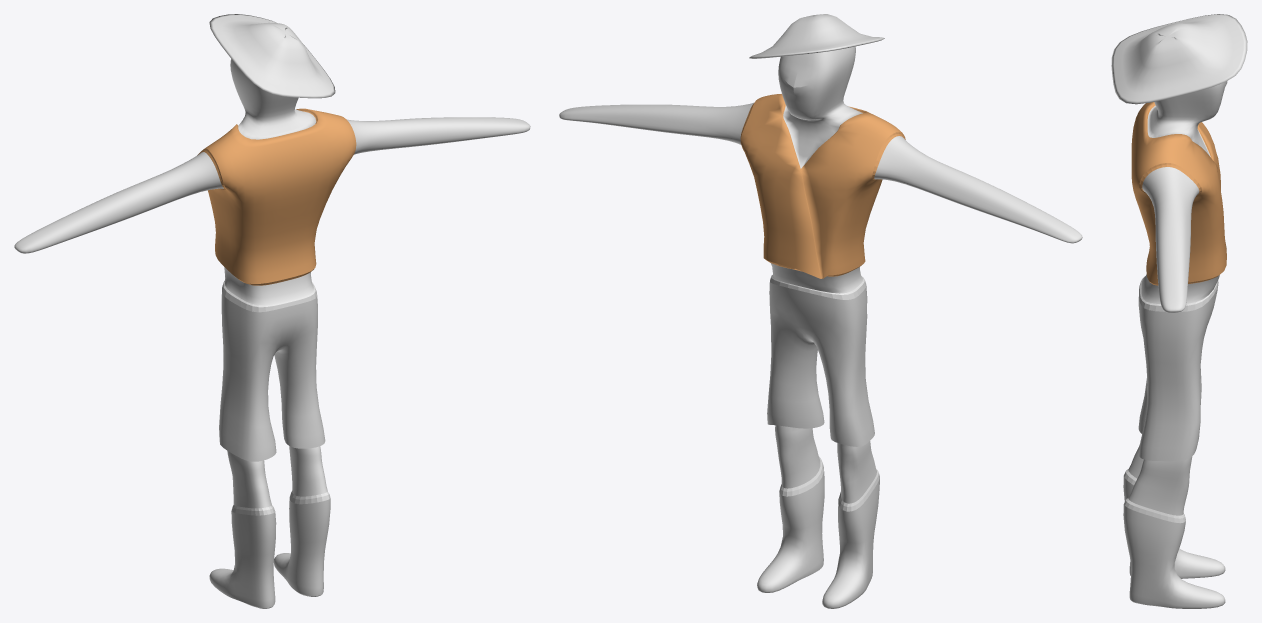
The model's file is Hero.fbx.
3 views of the same model, side by side, from view 1: azimuth 30°, elevation 25°; view 2: azimuth 150°, elevation 25°; view 3: azimuth 270°, elevation 25° (orthographic).
Parts seen in each view (by area): view 1: Hero; view 2: Hero; view 3: Hero.
Boxes of the visible parts, left/top/right/bottom form: Hero: left=14, top=14, right=530, bottom=608; Hero: left=559, top=14, right=1082, bottom=608; Hero: left=1111, top=14, right=1247, bottom=608.
Size of the model in its own units: 174 by 182 by 39.94.
